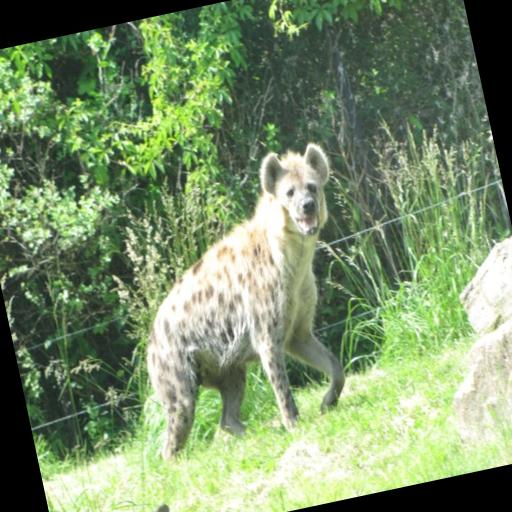hyenas: (91, 99, 482, 501)
